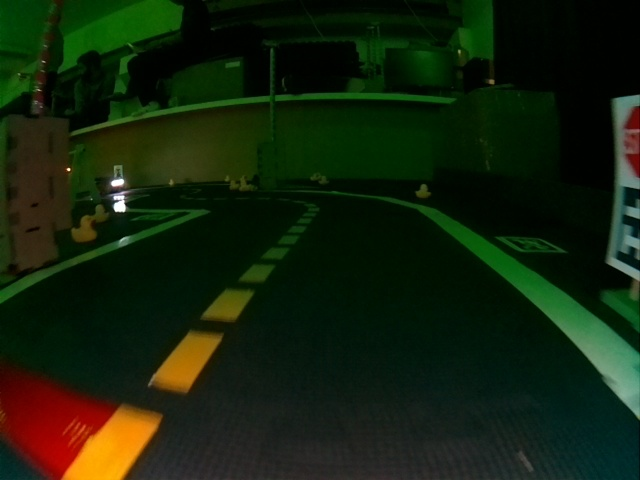Duckie: (71, 216, 97, 244), (94, 204, 108, 220), (416, 184, 431, 197), (229, 180, 239, 188), (239, 183, 251, 189), (318, 176, 327, 183)
QR code: (511, 235, 564, 253)
